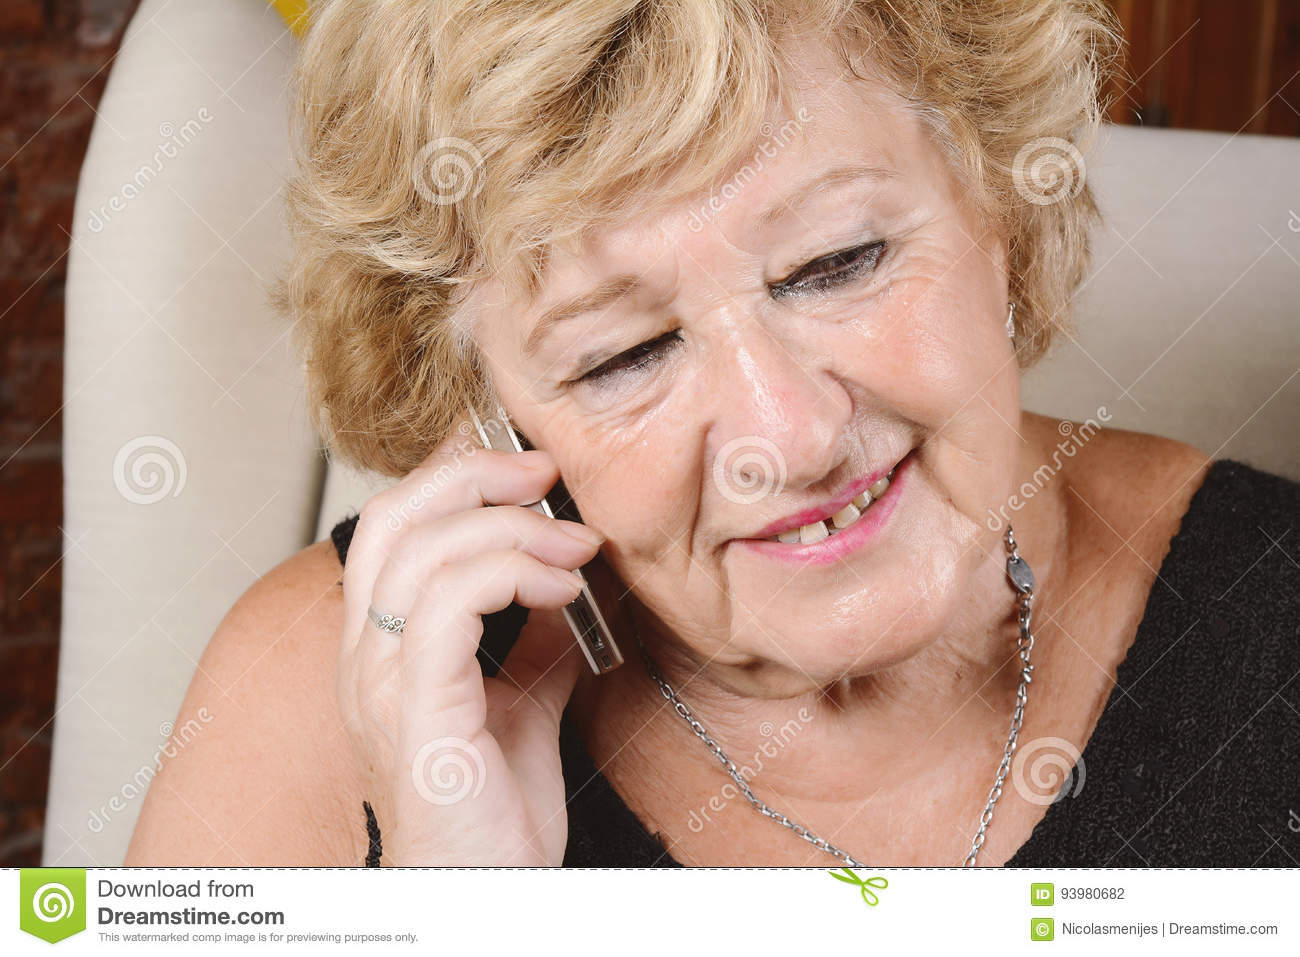phone: (456, 330, 628, 687)
talk: (335, 139, 1014, 869)
